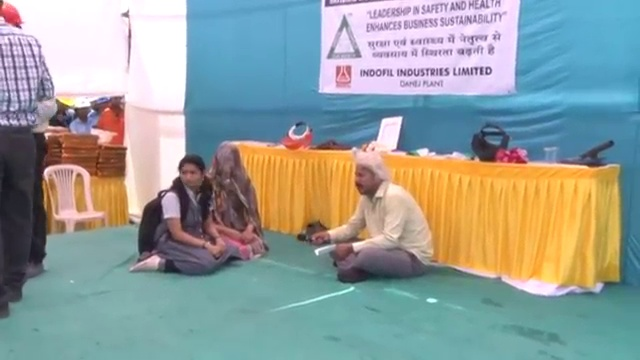helmet: (90, 129, 117, 146), (74, 96, 91, 111), (56, 95, 74, 108)
helmet_off: (344, 152, 389, 202), (211, 146, 247, 192), (174, 154, 205, 196), (111, 96, 124, 112)
helmet_on: (74, 96, 91, 122), (55, 95, 74, 117)
person: (309, 151, 436, 291), (0, 21, 58, 293), (135, 146, 239, 286), (206, 139, 269, 263), (96, 96, 126, 143), (67, 96, 97, 136), (48, 94, 75, 126)
